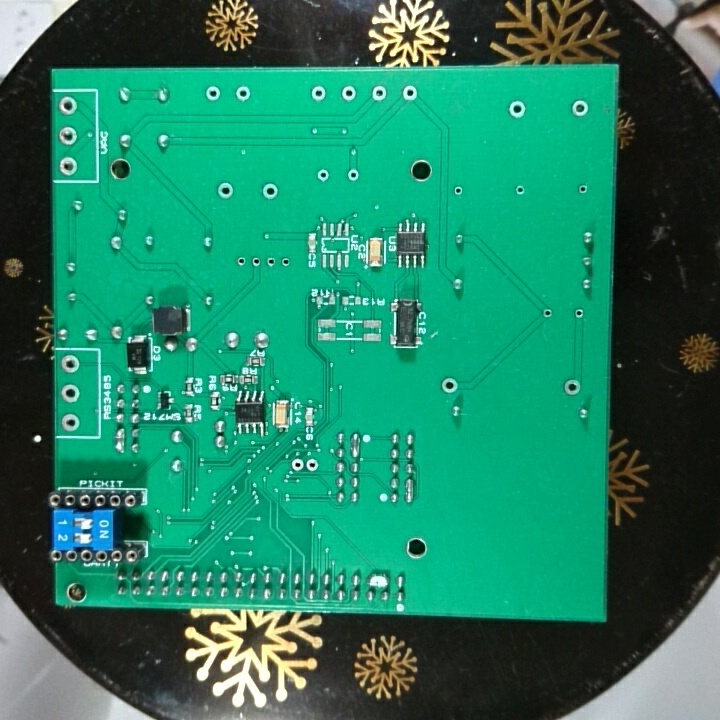F: (55, 93, 79, 118), (59, 380, 82, 406), (568, 95, 590, 122), (58, 352, 82, 376), (57, 153, 80, 177), (506, 98, 529, 121), (439, 373, 461, 397), (59, 410, 82, 432), (561, 375, 582, 399), (215, 180, 237, 202), (57, 124, 78, 147), (260, 180, 281, 203), (232, 83, 251, 105), (308, 84, 328, 104), (203, 82, 222, 103), (369, 83, 388, 103), (339, 83, 357, 103), (401, 82, 418, 102), (539, 304, 556, 323), (575, 180, 591, 199), (289, 456, 305, 475), (571, 303, 586, 323), (305, 455, 319, 476), (315, 166, 331, 184), (513, 180, 528, 199), (450, 181, 465, 200), (345, 165, 359, 184), (279, 253, 293, 271), (248, 254, 263, 270), (263, 254, 277, 269), (234, 253, 246, 270)
P: (365, 572, 391, 590), (402, 475, 416, 506), (348, 430, 362, 459), (111, 426, 125, 454)
